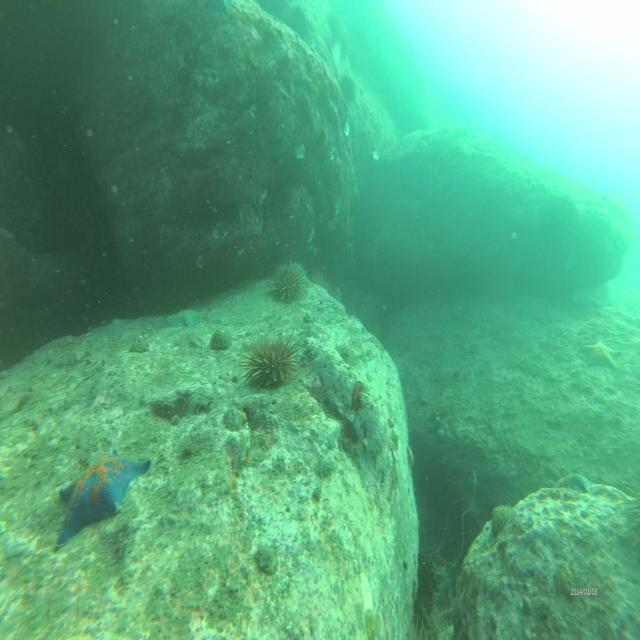echinus: (238, 335, 306, 389), (270, 257, 308, 309), (338, 69, 359, 108)
starfish: (58, 447, 148, 546), (584, 333, 622, 372), (558, 465, 594, 496)
